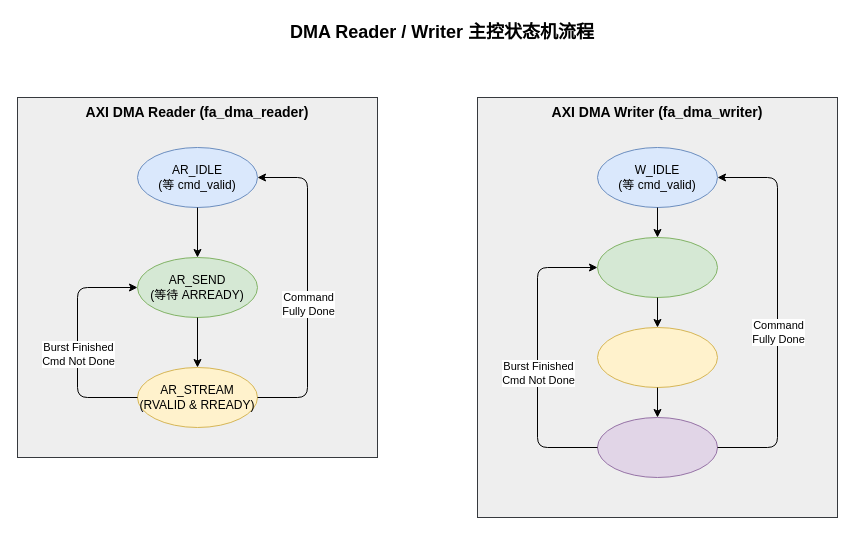
Image size: 855x535. Some labels were removed from this diagram. The centre of each missing label's shape, as x and y in pixels:
"W_ADDR (等待 AWREADY)" belongs at (x=657, y=267).
"W_DATA (WVALID & WREADY)" belongs at (x=657, y=357).
"W_RESP (等待 BVALID)" belongs at (x=657, y=447).
